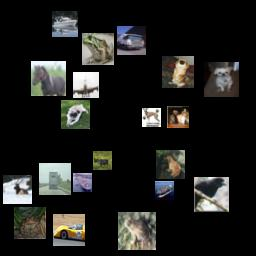airplane: (73, 72, 99, 98)
automobile: (53, 214, 85, 246)
bird: (194, 177, 229, 212)
cat: (167, 106, 189, 128)
deer: (3, 175, 32, 204), (93, 151, 112, 170)
dog: (204, 62, 239, 97), (162, 56, 194, 88), (61, 100, 90, 129), (142, 108, 161, 127)
frog: (118, 212, 156, 250), (14, 207, 46, 239), (82, 33, 114, 65), (156, 150, 185, 179)
ship: (52, 11, 78, 37), (73, 173, 92, 192), (155, 181, 174, 200)
truck: (39, 163, 71, 195), (117, 26, 146, 55)
